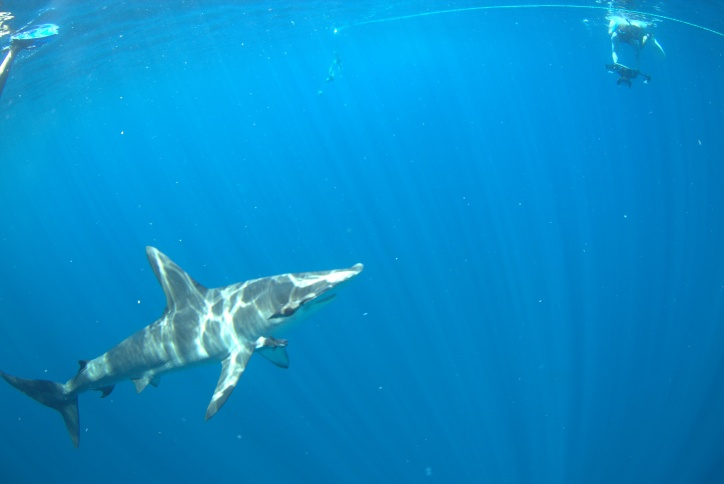Hammer: (1, 224, 379, 475)
